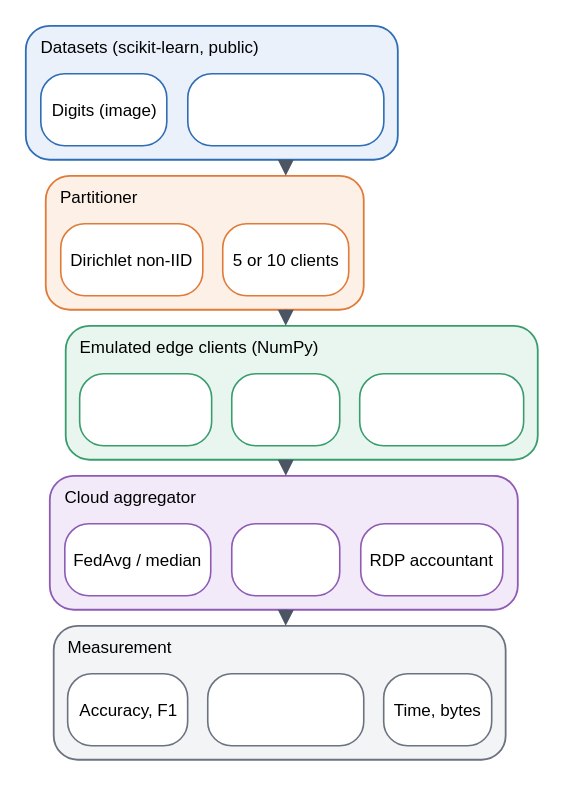
Image size: 566x788. Some labels were removed from this diagram. The shapes that lost their labels are listed below. From the top down, each one's centre as x and y in pixels, then its label:
At [285,109]: "Breast cancer (clinical)".
At [145,409]: "RFF + softmax".
At [285,409]: "DP-SGD".
At [441,409]: "Label-flip attackers".
At [285,559]: "SecAgg".
At [285,709]: "Epsilon, MIA AUC".
